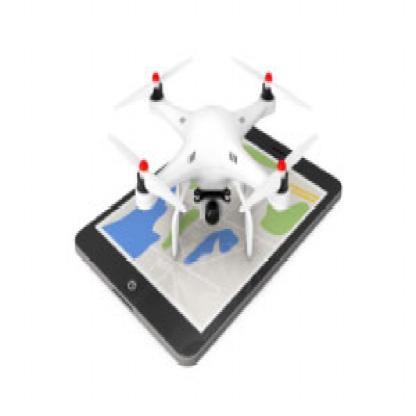drone: (104, 52, 319, 243)
